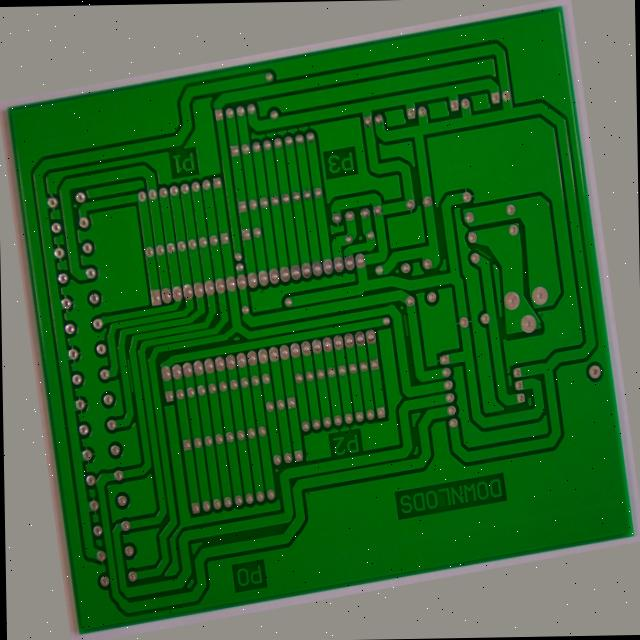spurious_copper: (495, 264, 515, 282), (101, 324, 108, 370), (407, 325, 417, 355)
